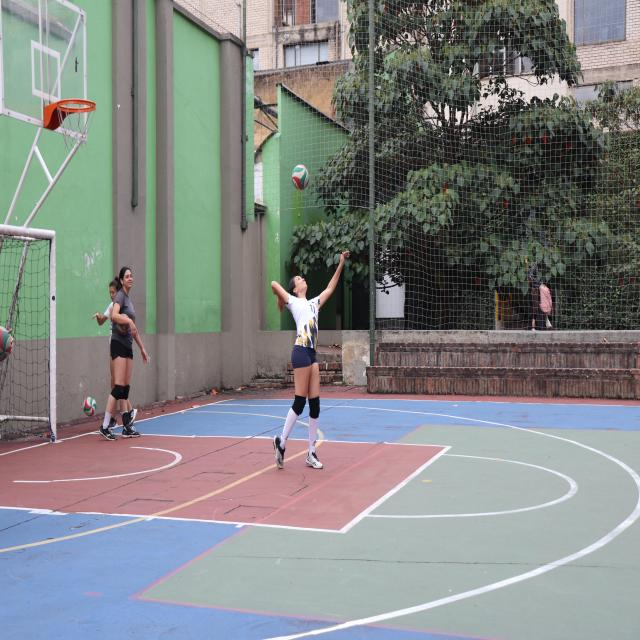volleyball: (292, 164, 309, 190), (0, 326, 11, 362), (83, 397, 96, 416)
